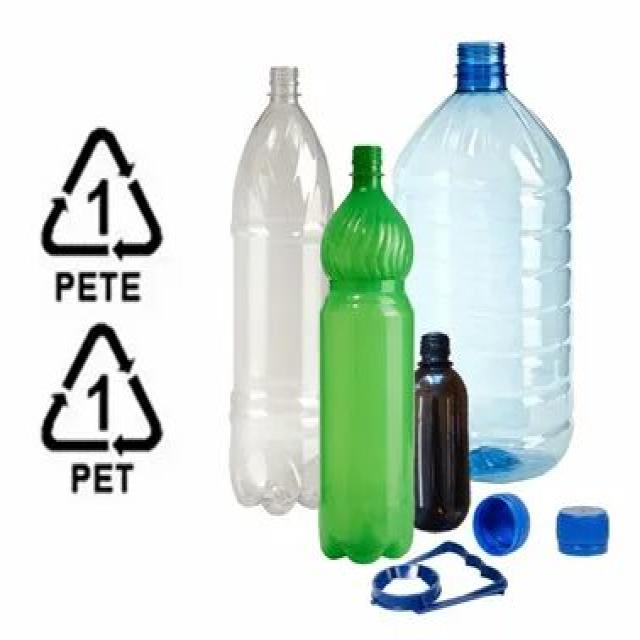blue: (398, 37, 573, 485)
green: (319, 145, 413, 565)
